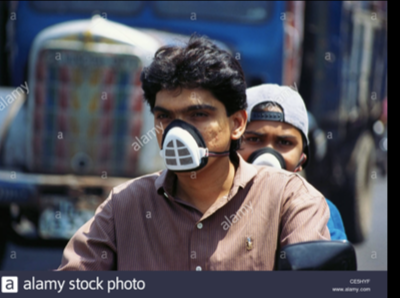with_mask: (153, 100, 230, 175), (241, 125, 302, 172)
